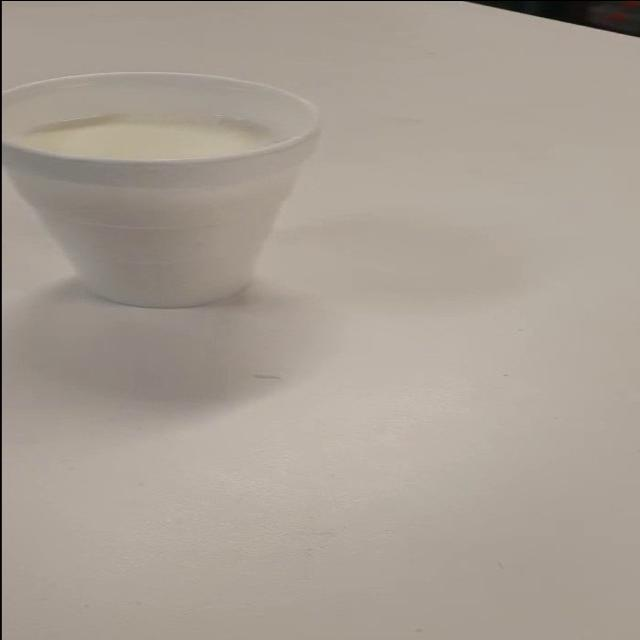Milk: (0, 51, 424, 336)
